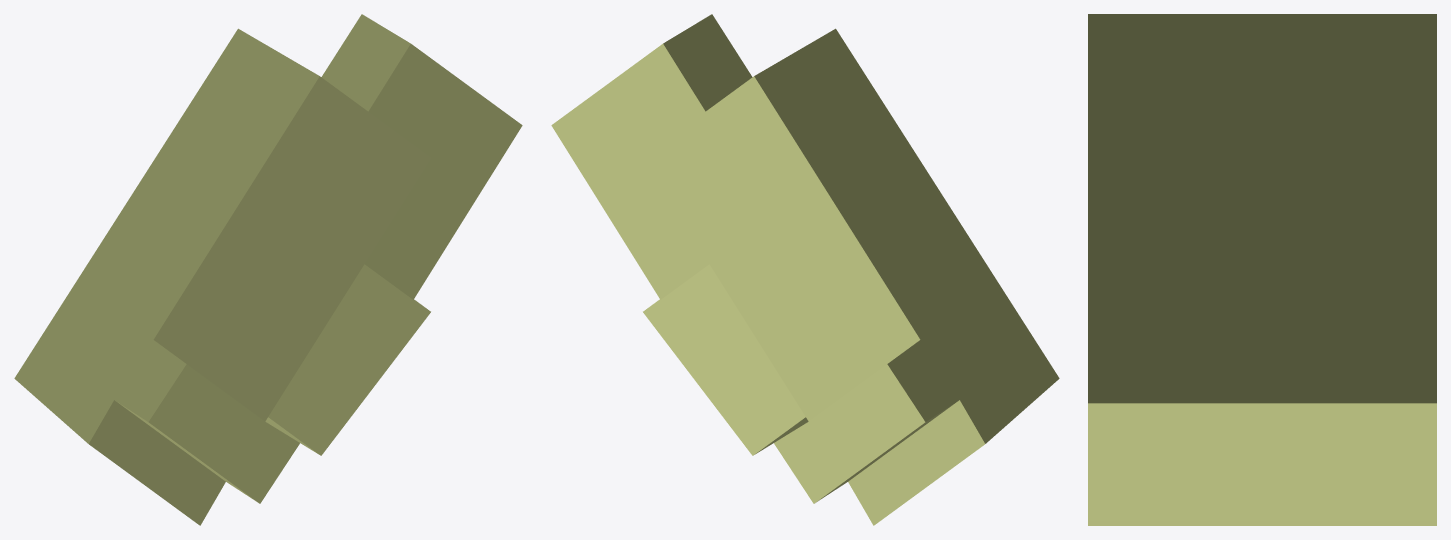
3 views of the same model, side by side, from view 1: azimuth 30°, elevation 25°; view 2: azimuth 150°, elevation 25°; view 3: azimuth 270°, elevation 25° (orthographic). The views are drawn at different scales.
Parts seen in each view (by area): view 1: 0_0_1_2_0_0_0_3_0_1; view 2: 0_0_1_2_0_0_0_3_0_1; view 3: 0_0_1_2_0_0_0_3_0_1.
Boxes of the visible parts, x1=… form: 0_0_1_2_0_0_0_3_0_1: x1=14, y1=14, x2=522, y2=525; 0_0_1_2_0_0_0_3_0_1: x1=551, y1=14, x2=1059, y2=525; 0_0_1_2_0_0_0_3_0_1: x1=1088, y1=14, x2=1436, y2=525.
Bounding box in the file's own units: 18.44 × 16.85 × 9.
